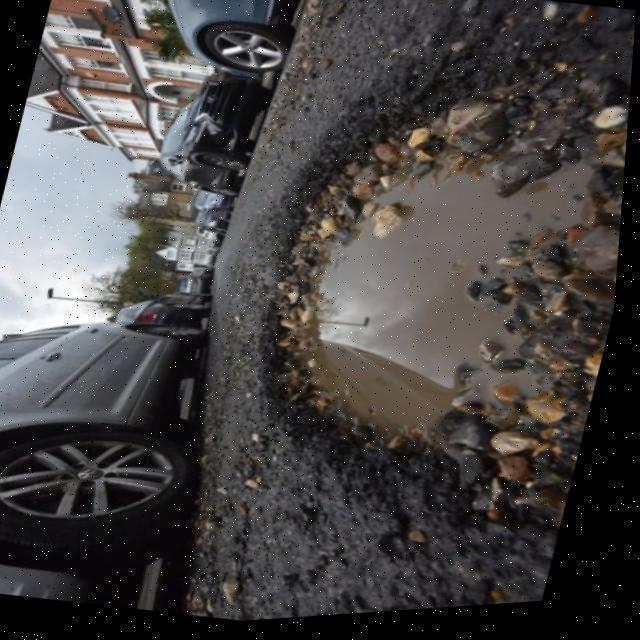Pothole: (251, 16, 631, 598)
